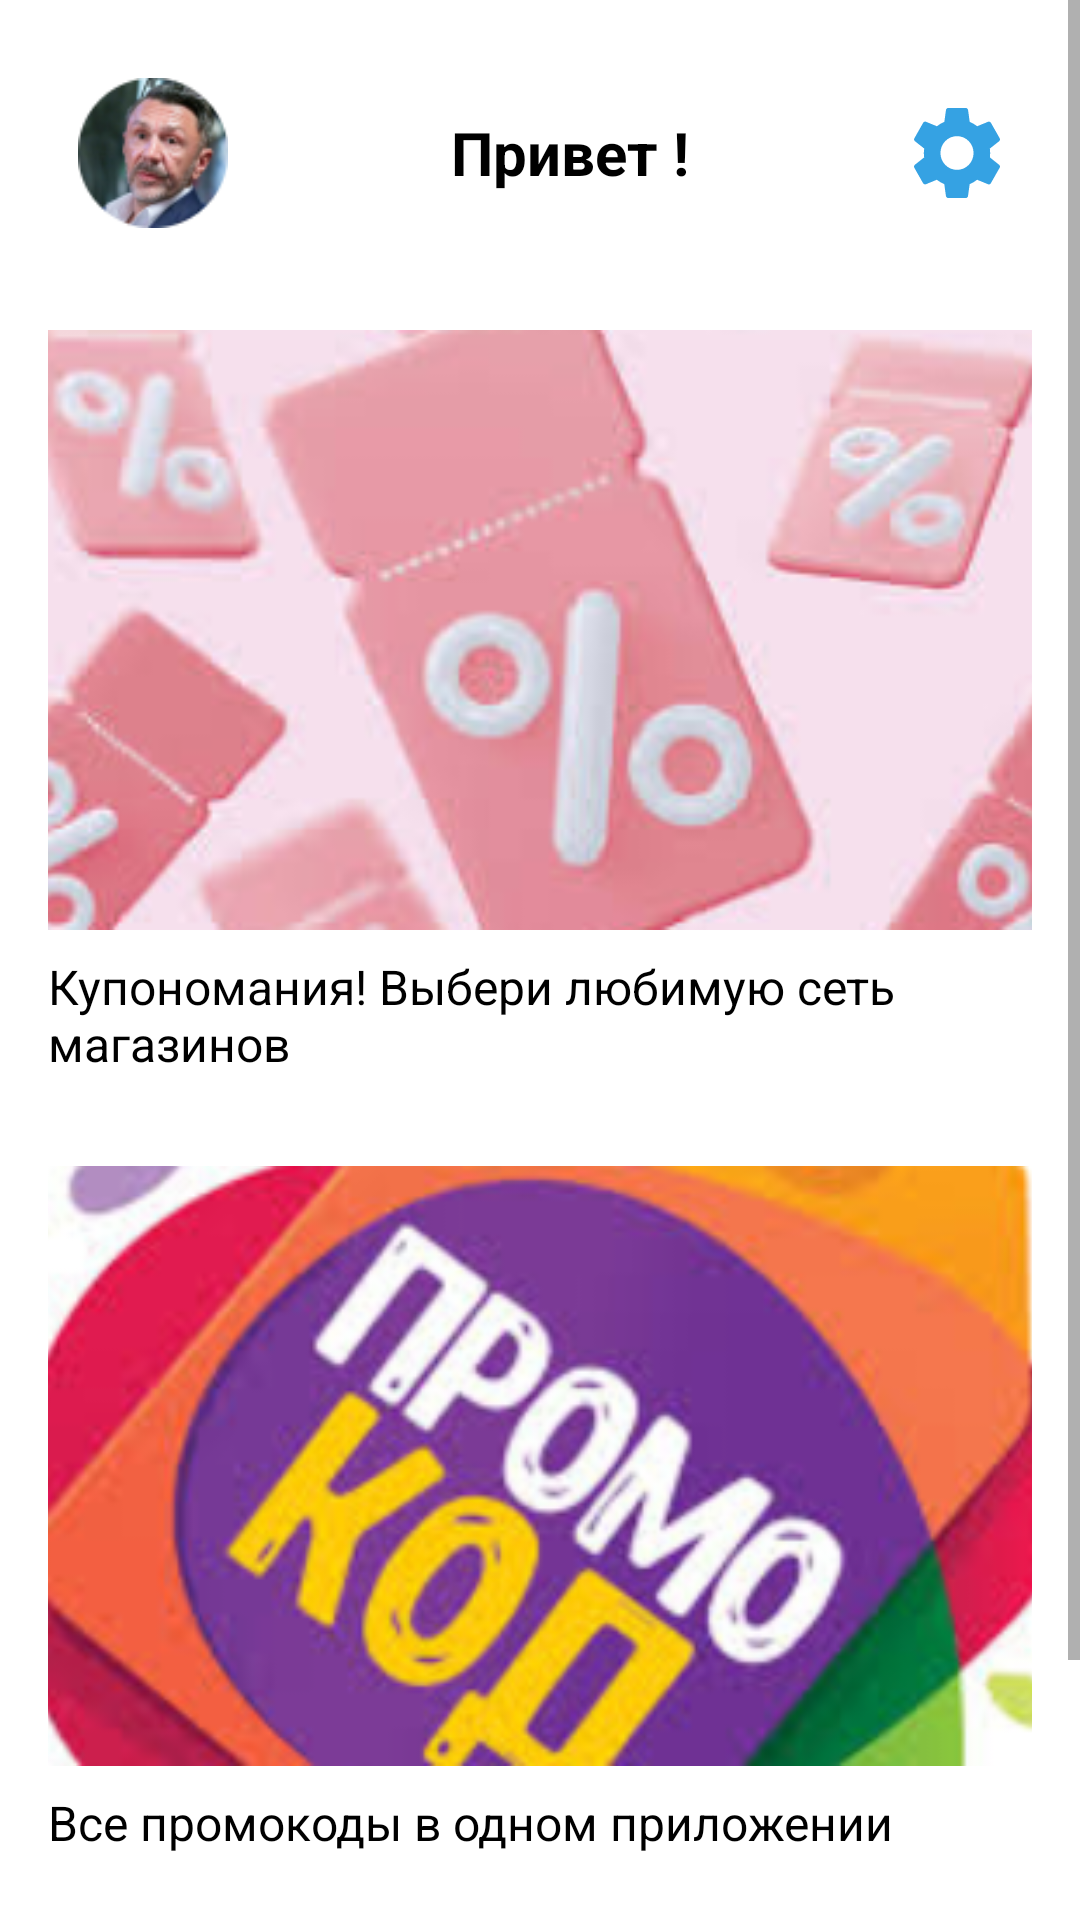

Icons on this 1080 x 1920 Android screen, each with its box as bbox=(x1, y1, x2, y2):
ava: bbox=(78, 78, 228, 228)
settings: bbox=(914, 108, 1000, 198)
